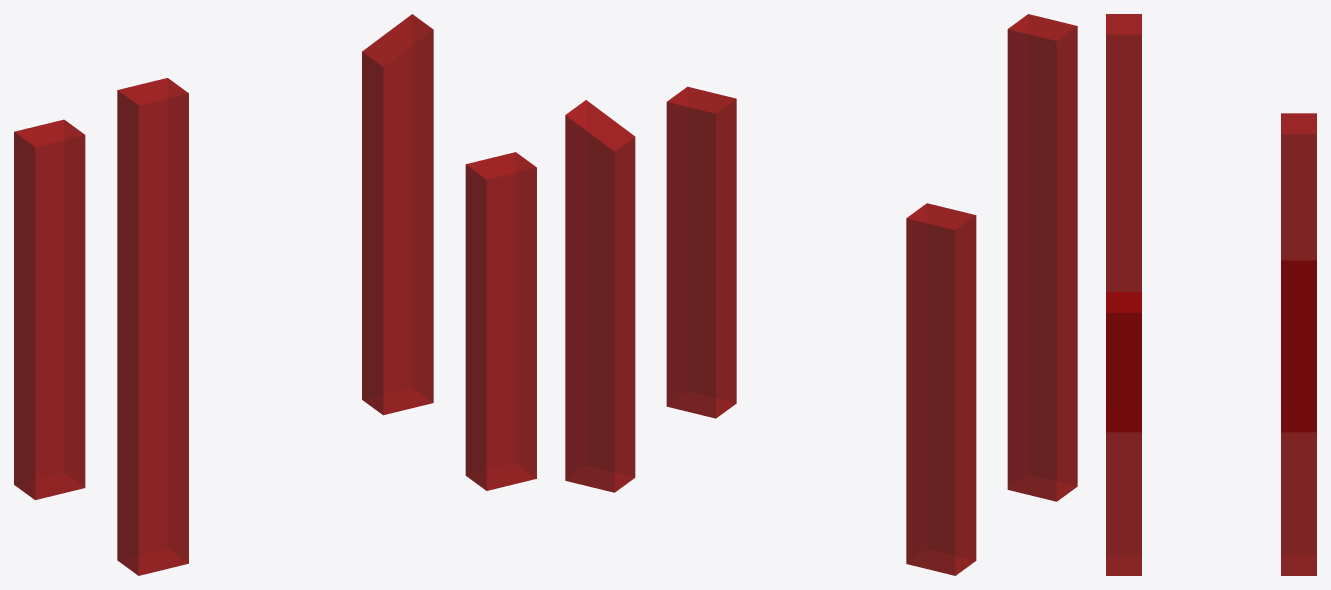
The model's file is SM_Bld_Village_ArchwayBridge_02_Destroyed_Collision.fbx.
The picture shows the model from 3 angles, left to right: view 1: azimuth 30°, elevation 25°; view 2: azimuth 150°, elevation 25°; view 3: azimuth 270°, elevation 25°; orthographic projection. The views are drawn at different scales.
Visible parts, largest first — view 1: SM_Bld_Village_ArchwayBridge_02_Destroyed_Collision; view 2: SM_Bld_Village_ArchwayBridge_02_Destroyed_Collision; view 3: SM_Bld_Village_ArchwayBridge_02_Destroyed_Collision.
Boxes of the visible parts, x1=… form: SM_Bld_Village_ArchwayBridge_02_Destroyed_Collision: x1=14, y1=14, x2=536, y2=575; SM_Bld_Village_ArchwayBridge_02_Destroyed_Collision: x1=565, y1=14, x2=1077, y2=575; SM_Bld_Village_ArchwayBridge_02_Destroyed_Collision: x1=1106, y1=14, x2=1316, y2=575.
Bounding box in the file's own units: 397 × 448 × 215.
